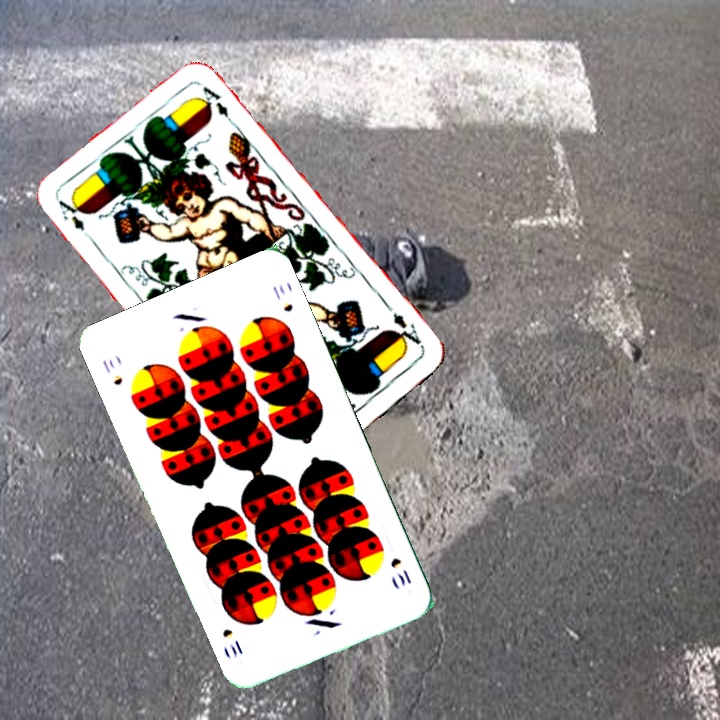EA: (54, 196, 97, 245), (388, 308, 425, 350)
S10: (386, 553, 414, 589), (98, 354, 126, 388)
